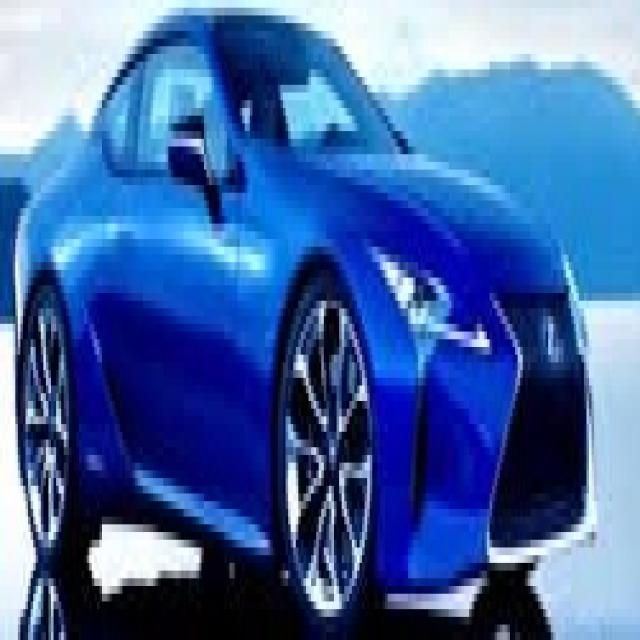blue: (12, 4, 602, 626)
